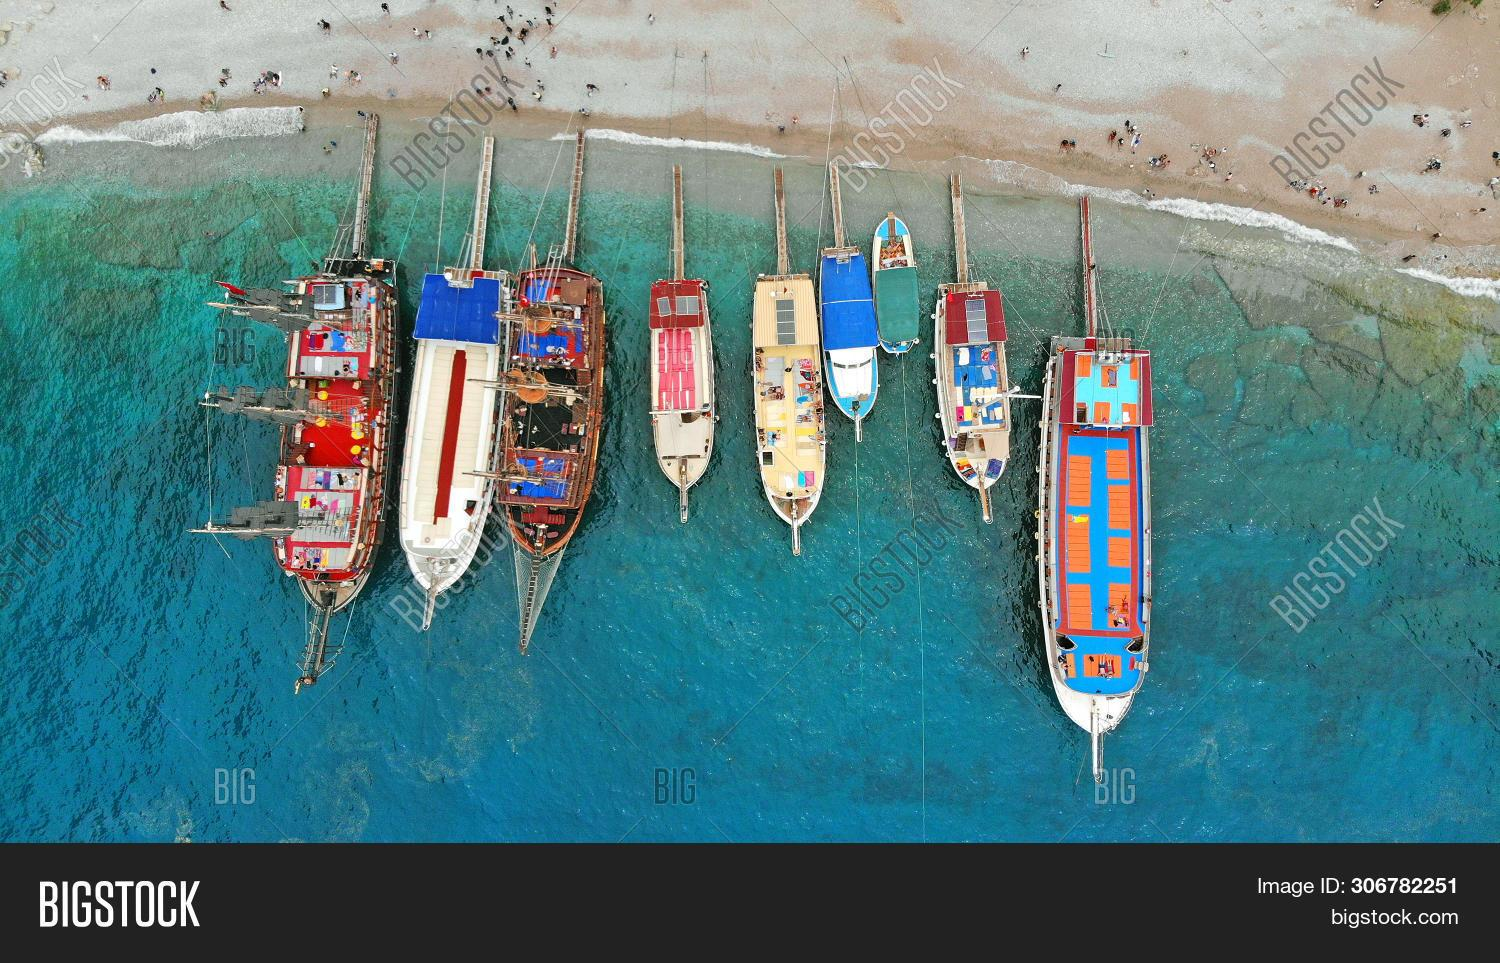Ship: (1028, 312, 1173, 776), (251, 220, 387, 622), (503, 233, 612, 658), (405, 225, 495, 616), (748, 258, 827, 563), (645, 268, 720, 522), (938, 282, 1015, 522), (820, 237, 877, 456), (870, 205, 928, 354)
